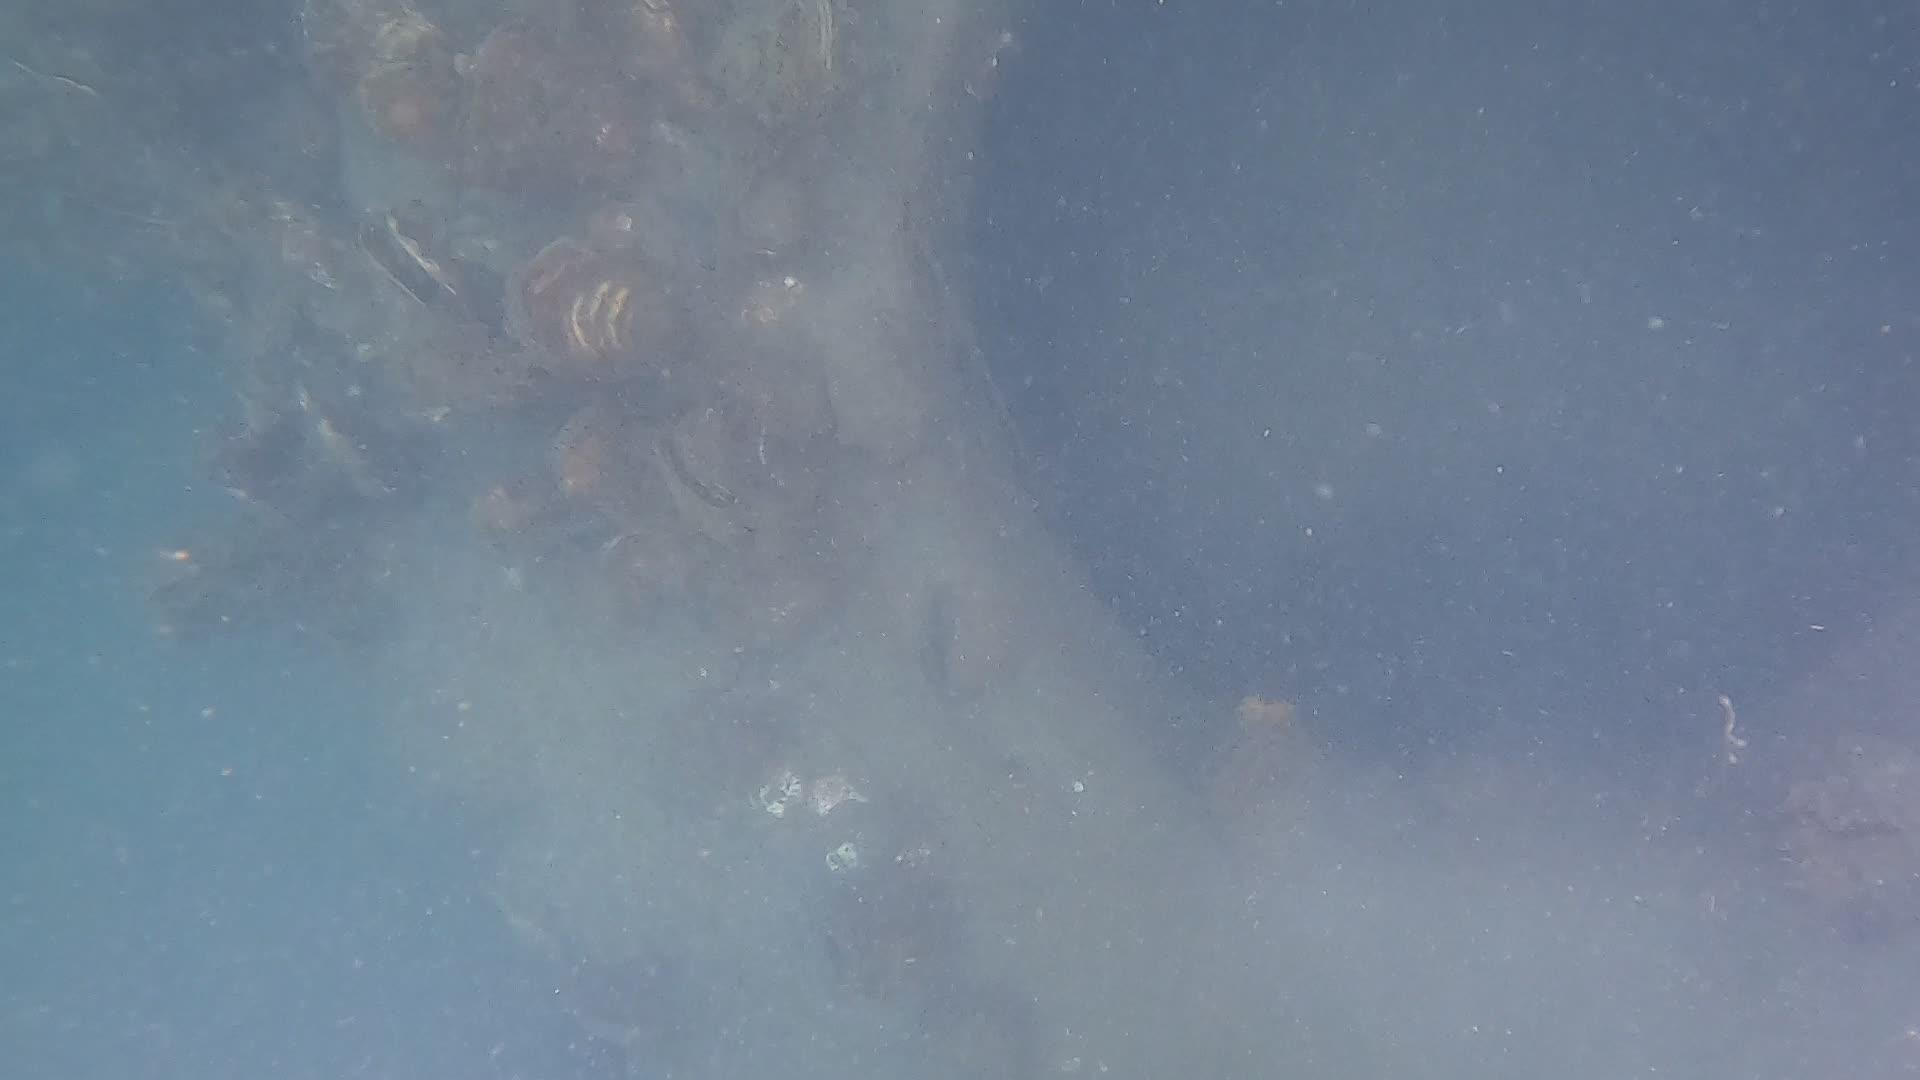tire: (334, 0, 1920, 1080)
